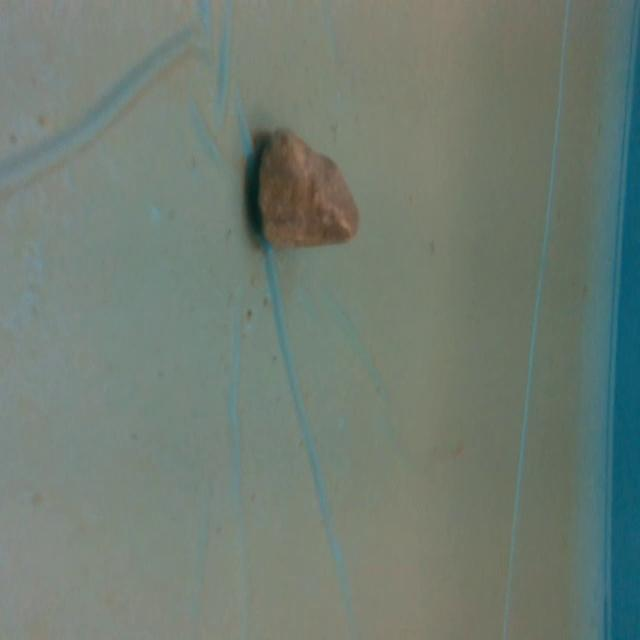rock: (250, 115, 364, 264)
